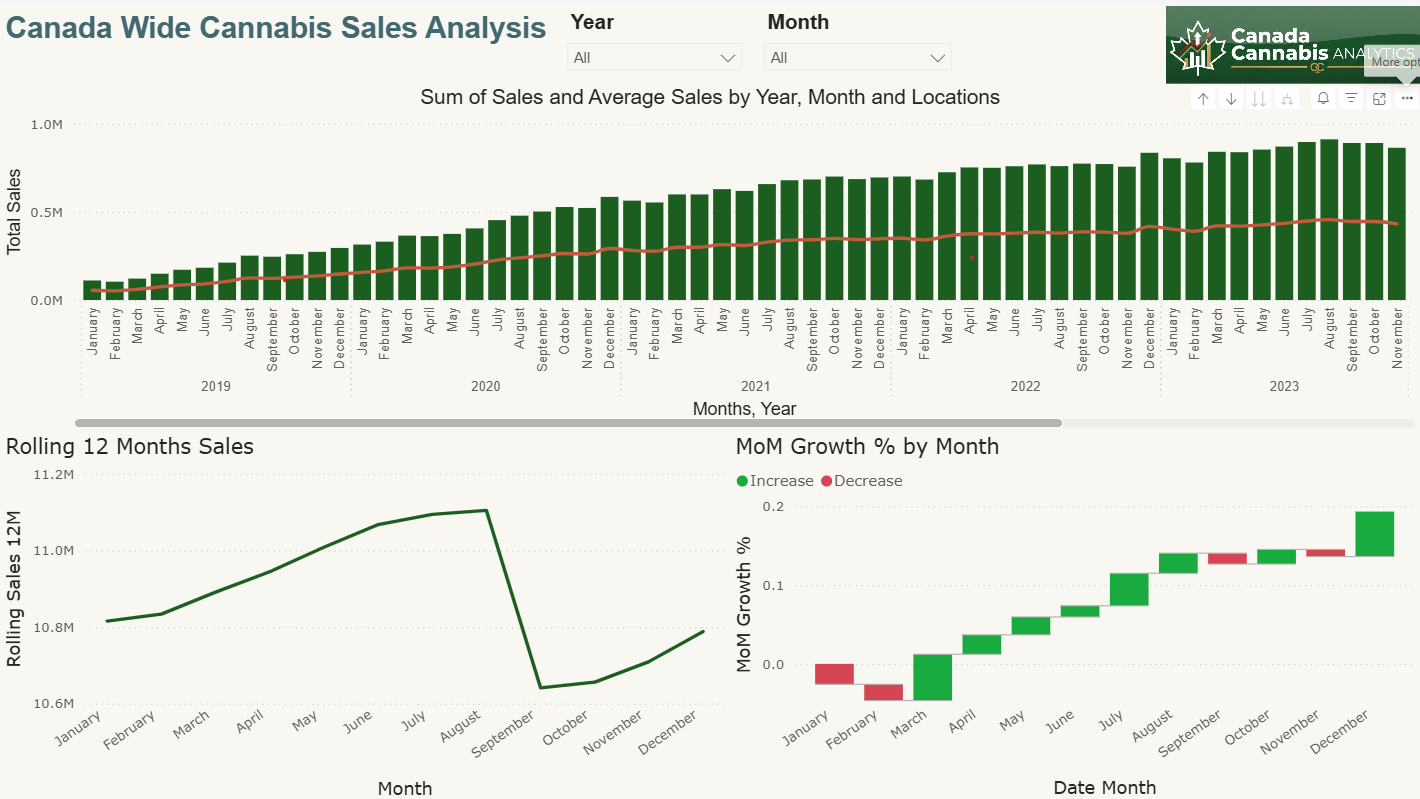

The dashboard page shown, as its layout file describes it:
{"tool":"powerbi","page":{"name":"Canada Wide Cannabis Sales Analysis","canvas":[1280,720],"ordinal":0},"visuals":[{"type":"textbox","box":[0,1,500.9,78.7],"z":0},{"type":"lineClusteredColumnComboChart","fields":{"Category":["Dates.Date.Variation.Date Hierarchy.Year","Dates.Date.Variation.Date Hierarchy.Month"],"Y":["select","Sum(Cannabis Retail Sales.Sales)"],"Series":["Cannabis Retail Sales.Locations"],"Y2":["Cannabis Retail Sales.Average Sales"]},"box":[0,72,1280,313.8],"z":1000},{"type":"slicer","fields":{"Values":["Dates.Date.Variation.Date Hierarchy.Year"]},"box":[500.9,0,177.5,72],"z":2000},{"type":"waterfallChart","fields":{"Y":["Cannabis Retail Sales.MoM Growth %"],"Category":["Dates.Date.Variation.Date Hierarchy.Year","Dates.Date.Variation.Date Hierarchy.Month"]},"box":[658.2,385.7,621.8,333.9],"z":3000},{"type":"lineChart","title":"Rolling 12 Months Sales","fields":{"Category":["Dates.Date.Variation.Date Hierarchy.Year","Dates.Date.Variation.Date Hierarchy.Month"],"Y":["Cannabis Retail Sales.Rolling Sales 12M"]},"box":[0,385.7,658.2,333.9],"z":4000},{"type":"slicer","fields":{"Values":["Dates.Date.Variation.Date Hierarchy.Month"]},"box":[678.4,0,189,72],"z":5000},{"type":"image","box":[1050.7,1,229.3,70],"z":5001}]}

Visuals, with their boxes on the page's 1280x720 design canvas (x1, y1, x2, y2). These are canvas units, not pixel positions in the 1420x799 screenshot, which may show the page scaled, cropped or inside an application window:
textbox: [0, 1, 501, 80]
lineClusteredColumnComboChart - Dates.Date.Variation.Date Hierarchy.Year x Dates.Date.Variation.Date Hierarchy.Month: [0, 72, 1280, 386]
slicer - Dates.Date.Variation.Date Hierarchy.Year: [501, 0, 678, 72]
waterfallChart - Cannabis Retail Sales.MoM Growth % x Dates.Date.Variation.Date Hierarchy.Year: [658, 386, 1280, 720]
"Rolling 12 Months Sales" lineChart: [0, 386, 658, 720]
slicer - Dates.Date.Variation.Date Hierarchy.Month: [678, 0, 867, 72]
image: [1051, 1, 1280, 71]
